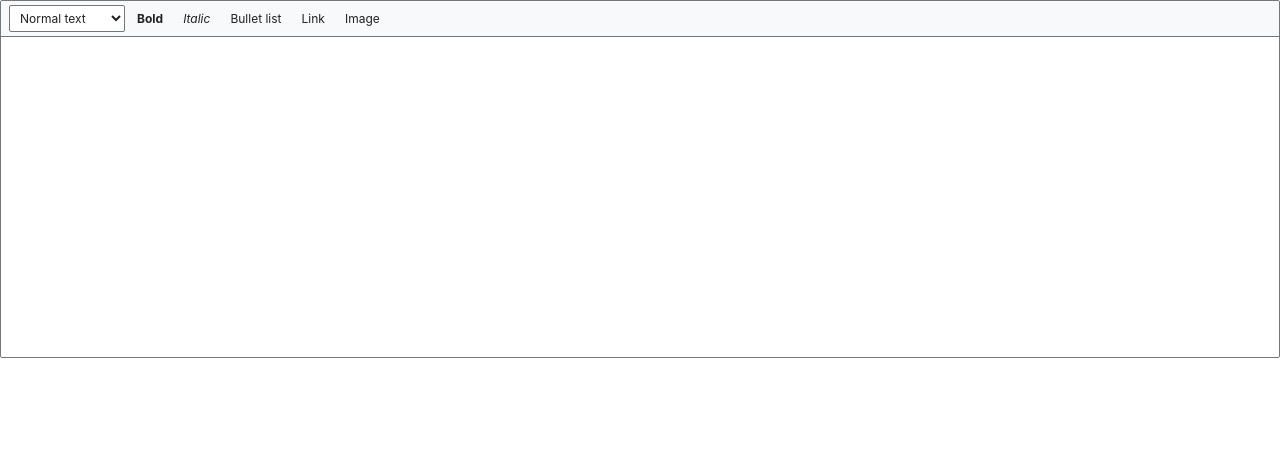
Test: the rendered component › opens a link panel rather than a browser prompt
What coordinates should you click on to do the following:
click the button "Link"
I would click on:
 (313, 18)
Its box is [294, 6, 333, 32].
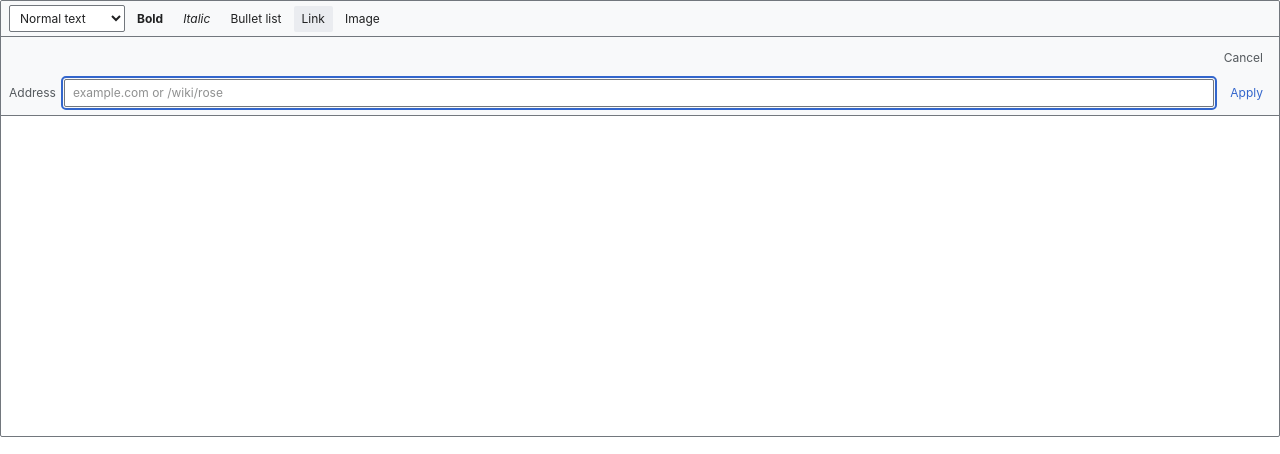
Result: the field labelled "Address" is shown at [64, 79, 1214, 107]
